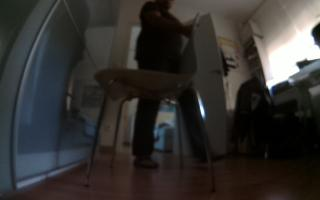person: (126, 1, 230, 172)
